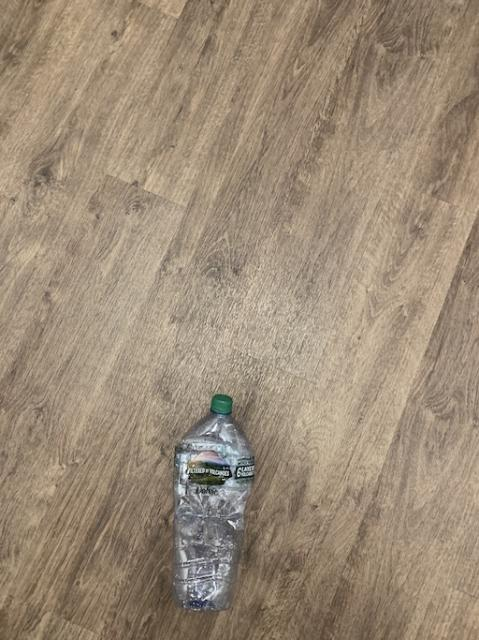plastic: (172, 394, 253, 609)
